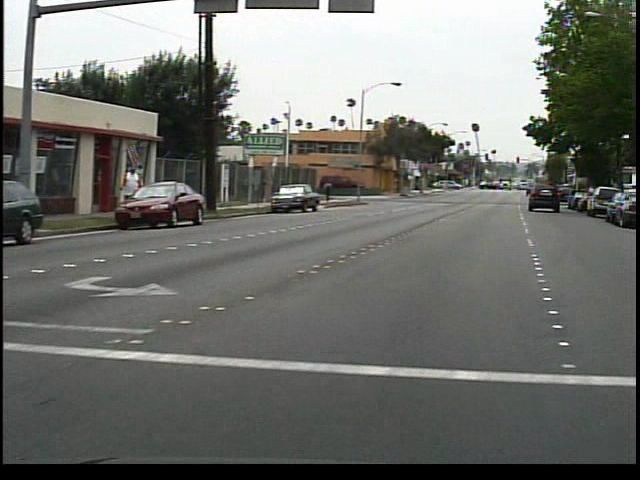person: (122, 158, 151, 221), (326, 175, 340, 205)
